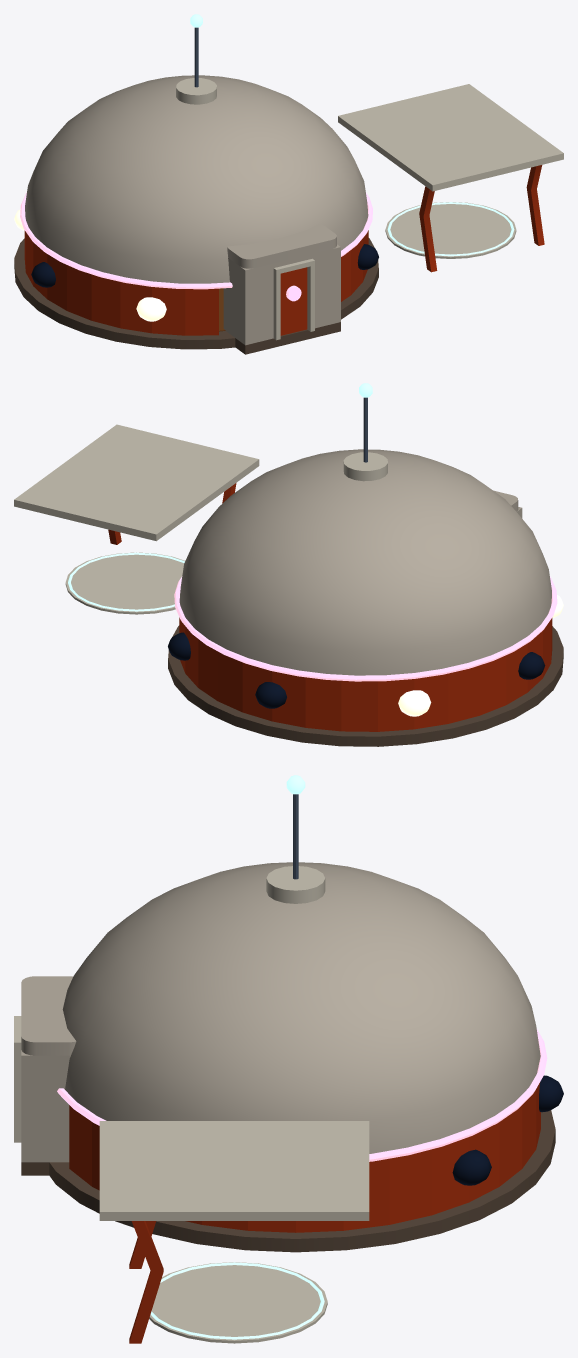
Rendered from bungalow_dome.glb.
3 views of the same model, one above another, from view 1: azimuth 30°, elevation 25°; view 2: azimuth 150°, elevation 25°; view 3: azimuth 270°, elevation 25° (orthographic). The views are drawn at different scales.
Visible parts, largest first — view 1: bungalow_dome, door_home_leaf; view 2: bungalow_dome; view 3: bungalow_dome.
Part boxes in pixels (left/top/right/bottom): bungalow_dome: left=14, top=14, right=563, bottom=354; door_home_leaf: left=280, top=267, right=307, bottom=335; bungalow_dome: left=14, top=383, right=563, bottom=746; bungalow_dome: left=14, top=775, right=563, bottom=1343.
Bounding box in the file's own units: 15.47 × 8.25 × 11.22.
